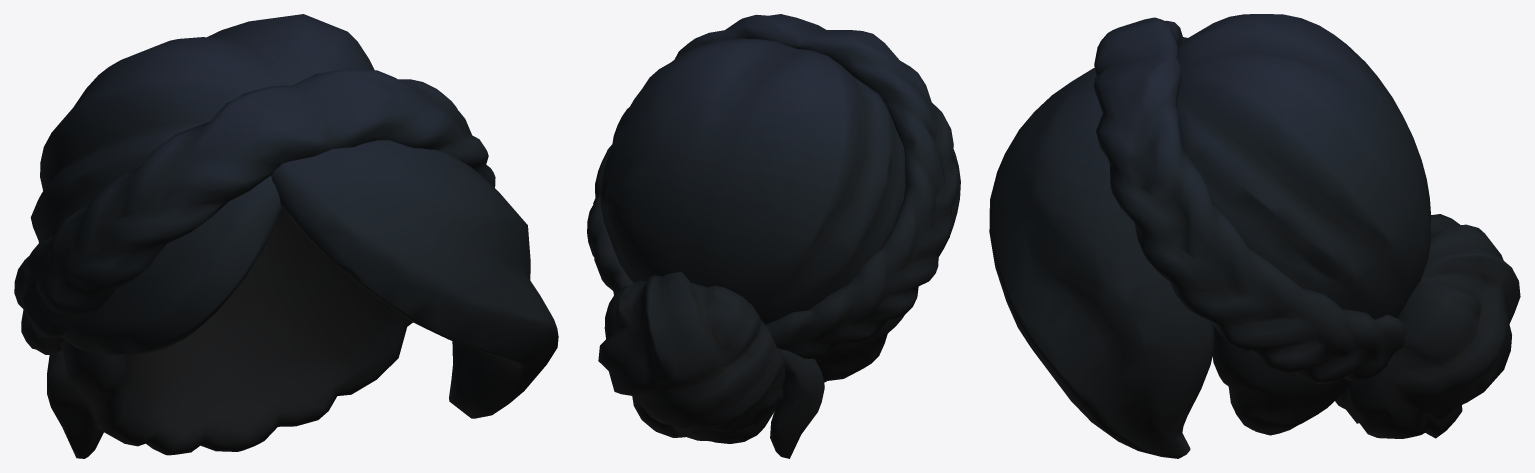
The model's file is SM_HAIR_BraidedBun.fbx.
3 views of the same model, side by side, from view 1: azimuth 30°, elevation 25°; view 2: azimuth 150°, elevation 25°; view 3: azimuth 270°, elevation 25° (orthographic). The views are drawn at different scales.
Visible parts, largest first — view 1: HAIR_BraidedBun; view 2: HAIR_BraidedBun; view 3: HAIR_BraidedBun.
Boxes of the visible parts, box(x1,y1,x2,y2) form: HAIR_BraidedBun: box(14, 14, 558, 458); HAIR_BraidedBun: box(587, 14, 960, 458); HAIR_BraidedBun: box(989, 14, 1520, 458).
Bounding box in the file's own units: 73.62 × 73.09 × 87.64.
Materials: 1 (1 with a texture image).
